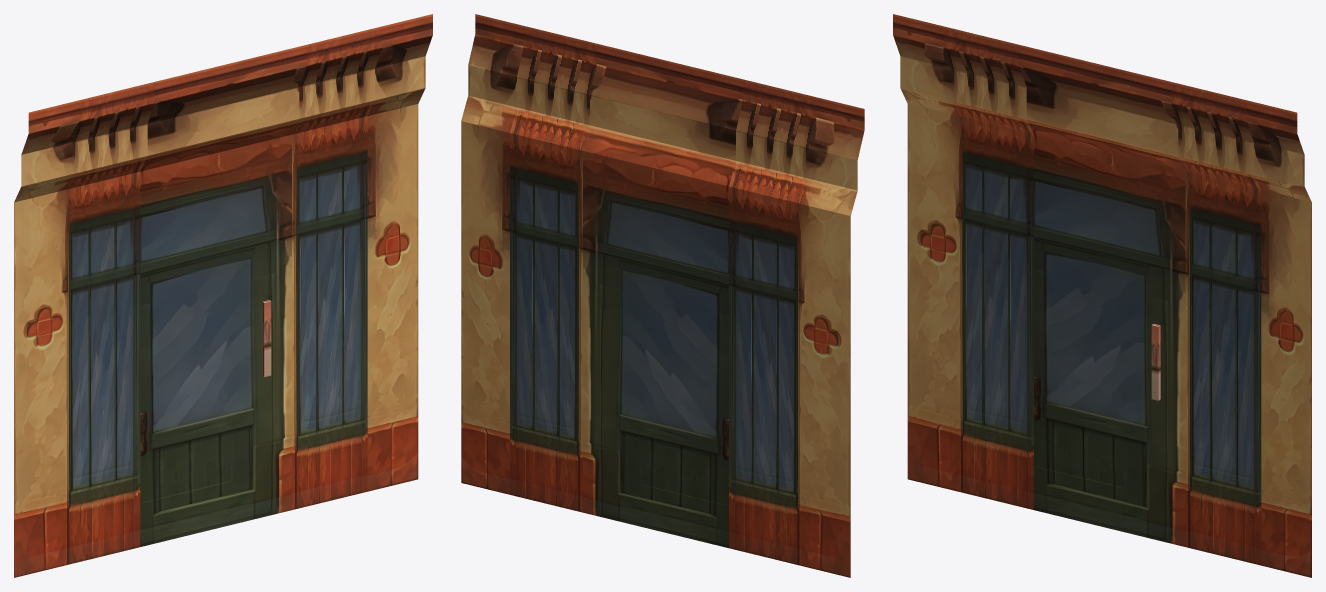
The model's file is MSN_G_Bay4B.fbx.
3 renders of one model, left to right at view 1: azimuth 30°, elevation 25°; view 2: azimuth 150°, elevation 25°; view 3: azimuth 330°, elevation 25°, orthographic. The views are drawn at different scales.
Parts seen in each view (by area): view 1: MSN_G_Bay4B; view 2: MSN_G_Bay4B; view 3: MSN_G_Bay4B.
Part boxes in pixels (<box>): MSN_G_Bay4B: <box>14,14,432,577</box>; MSN_G_Bay4B: <box>461,14,864,577</box>; MSN_G_Bay4B: <box>893,14,1311,577</box>.
Bounding box in the file's own units: 4 × 0.25 × 4.5.
1 material, 1 textured.
